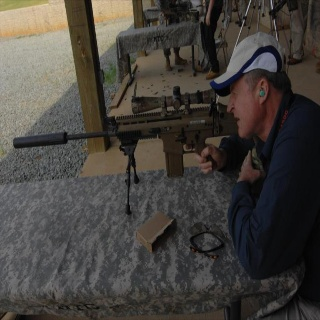rifle: (13, 85, 249, 216)
